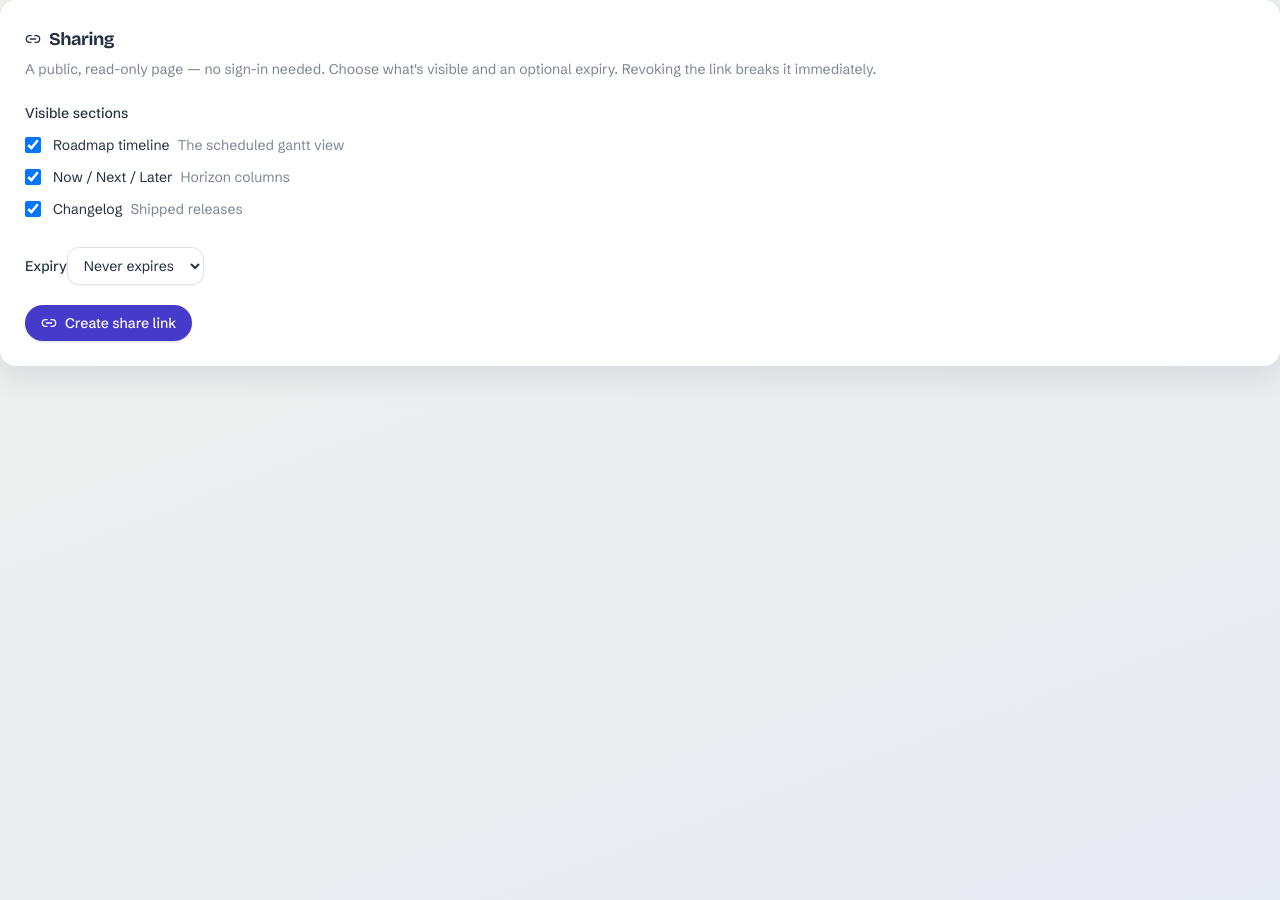
Test: SharingBlock › sends the chosen sections + expiry in the mint request
This screenshot has width=1280, height=900.
Hide everything except the changelog, expire in 30 days.
Click the checkbox labelled "Roadmap timeline".
click(33, 145)  # box x1=25 y1=137 x2=41 y2=153
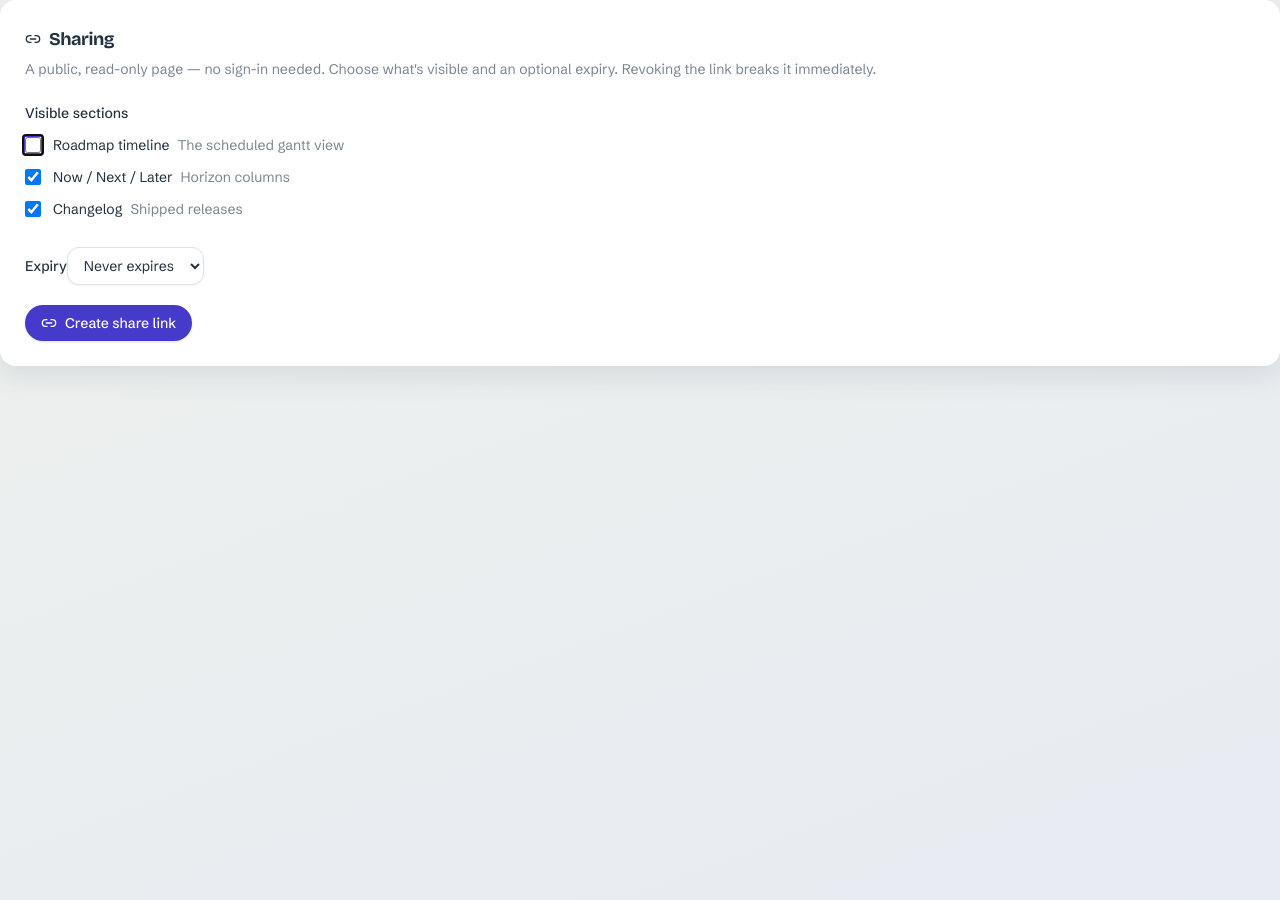
Click the checkbox labelled "Now / Next / Later".
click(33, 177)  # box x1=25 y1=169 x2=41 y2=185
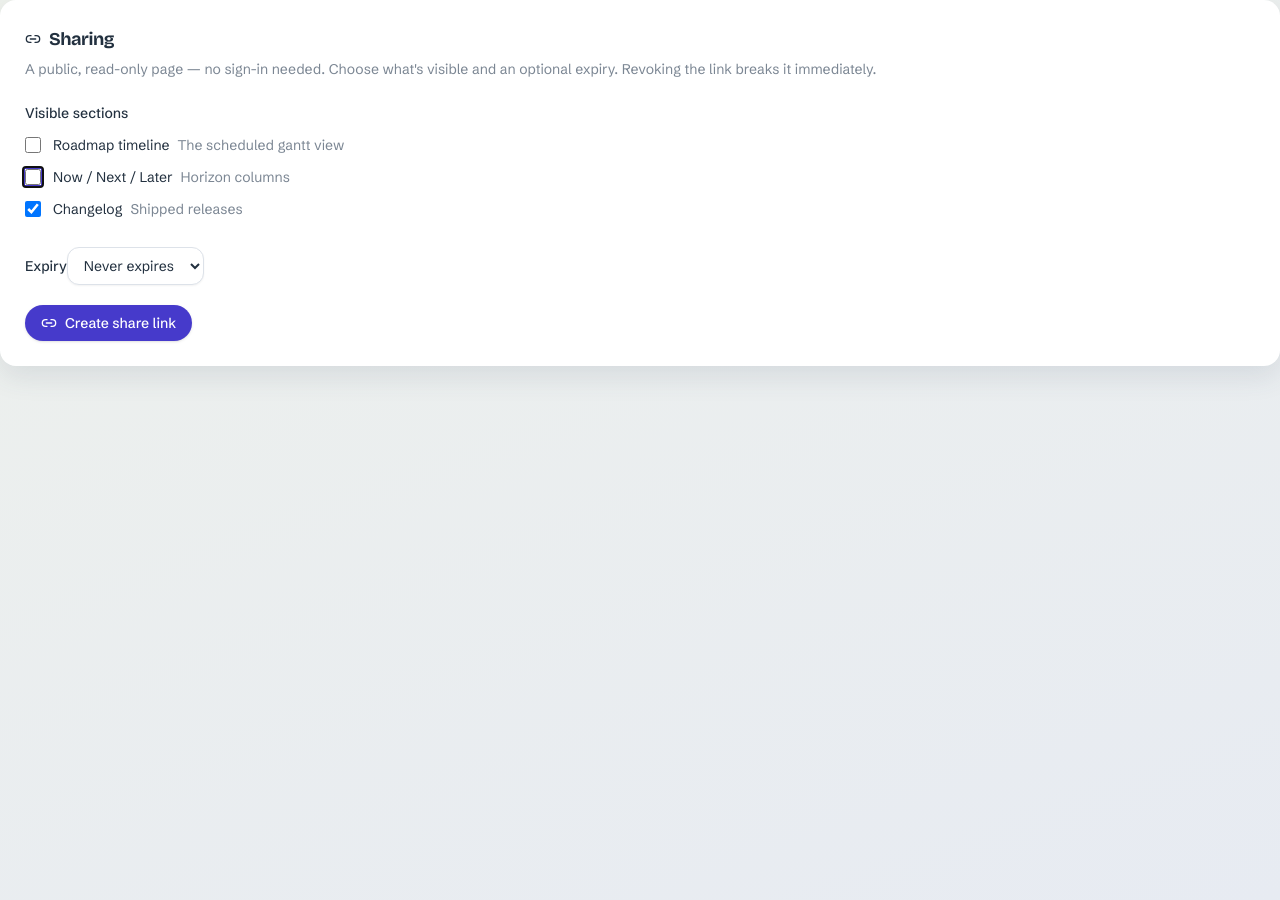
Select "In 30 days" in the dropdown labelled "Expiry" at (135, 266), box x1=67 y1=247 x2=204 y2=285
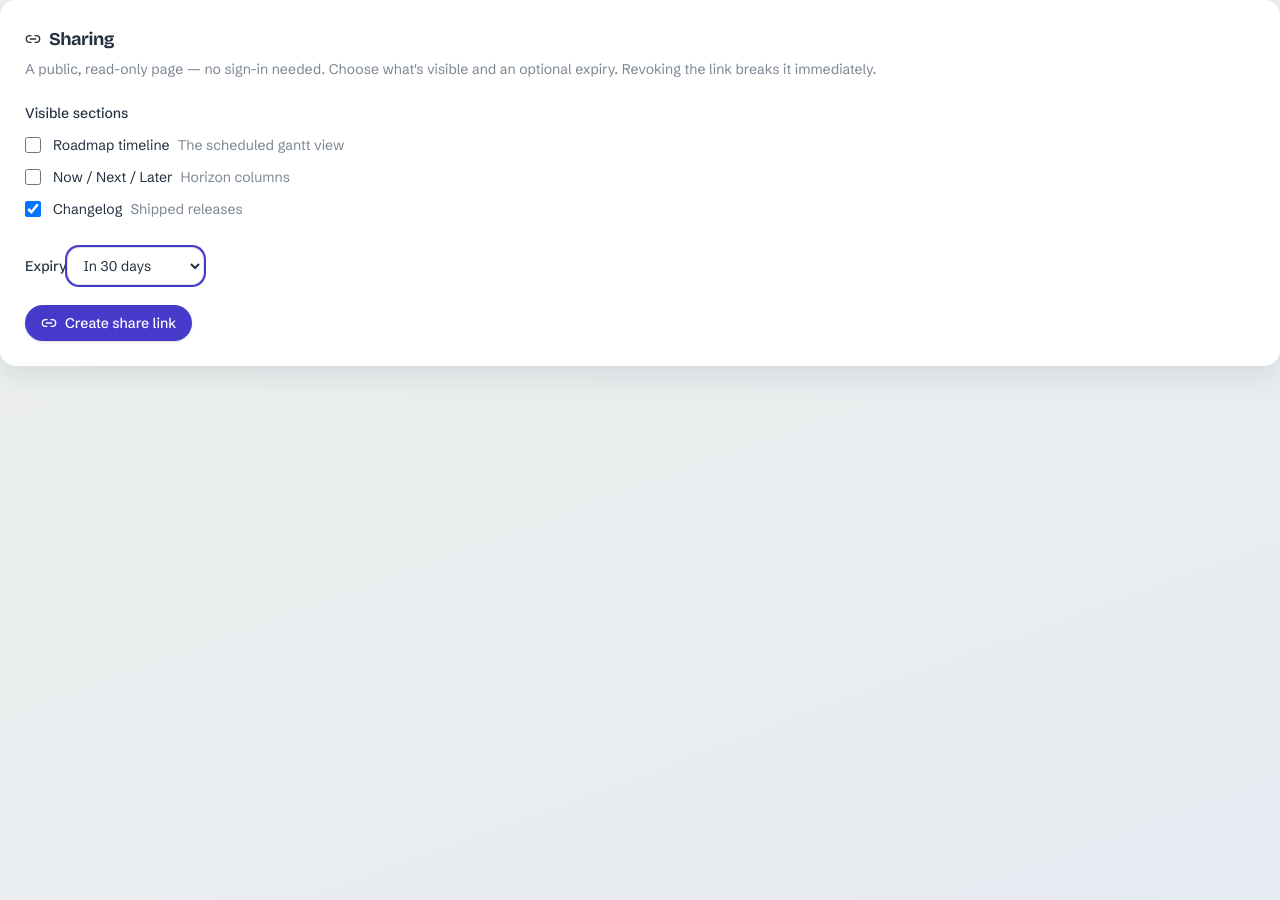
Click the button "Create share link".
click(109, 323)  # box x1=25 y1=305 x2=192 y2=341
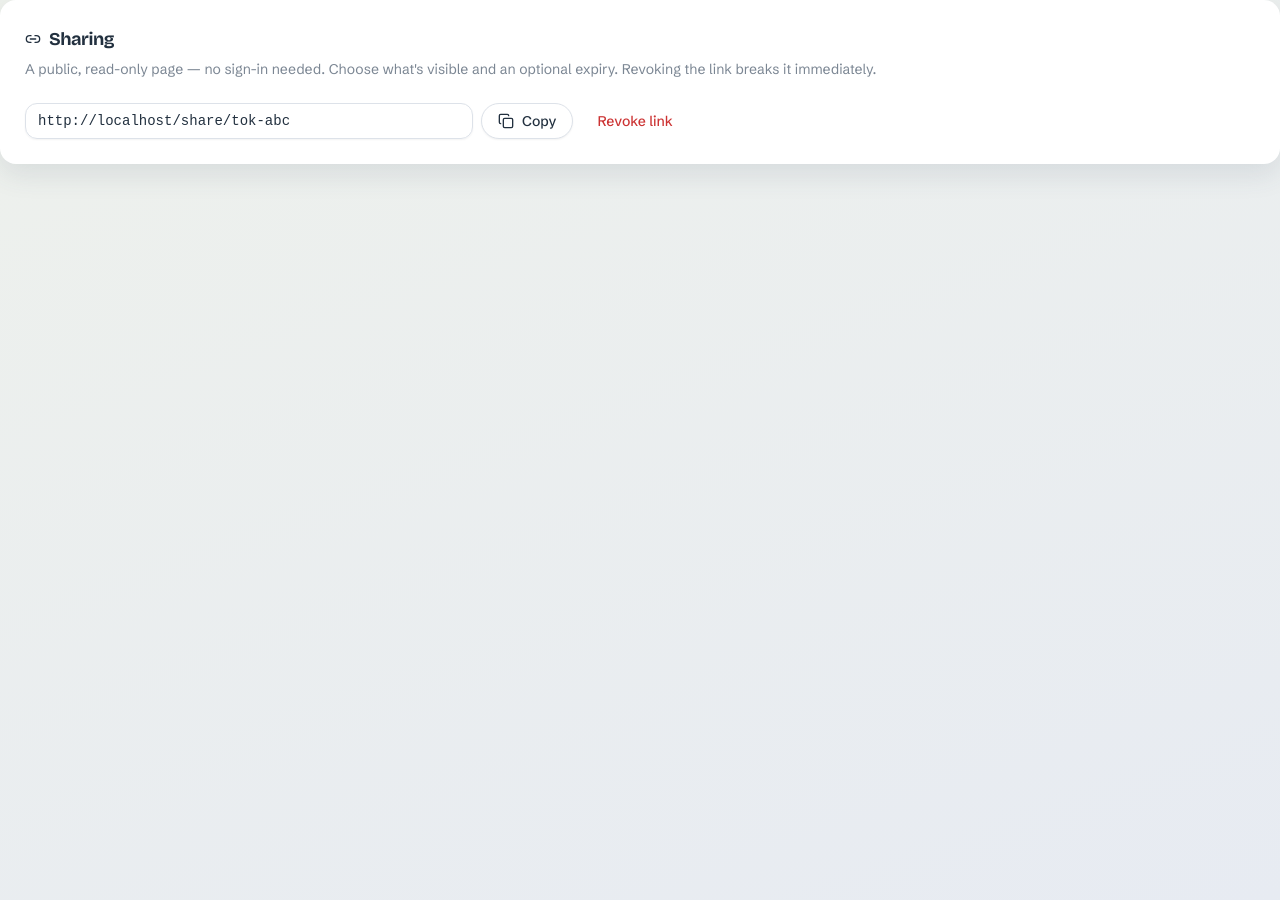
Now the field named "Share link" is shown, box x1=25 y1=103 x2=473 y2=139
